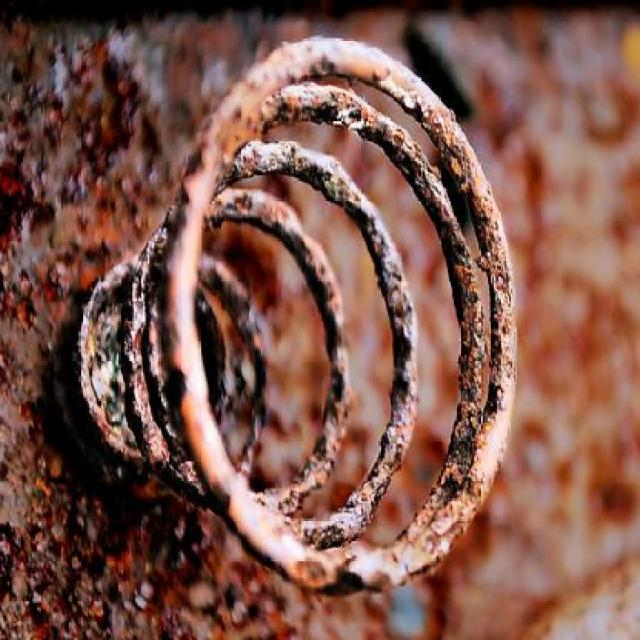corrosion: (71, 29, 527, 603)
